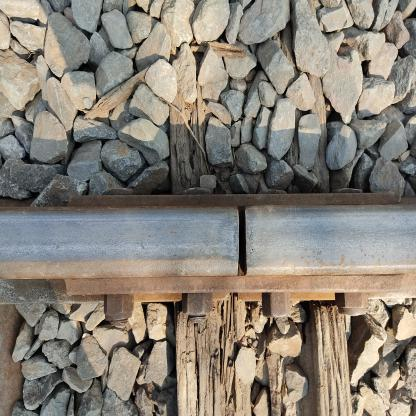Non Defective 2: (204, 197, 290, 288)
Non Defective 3: (54, 263, 416, 340)
